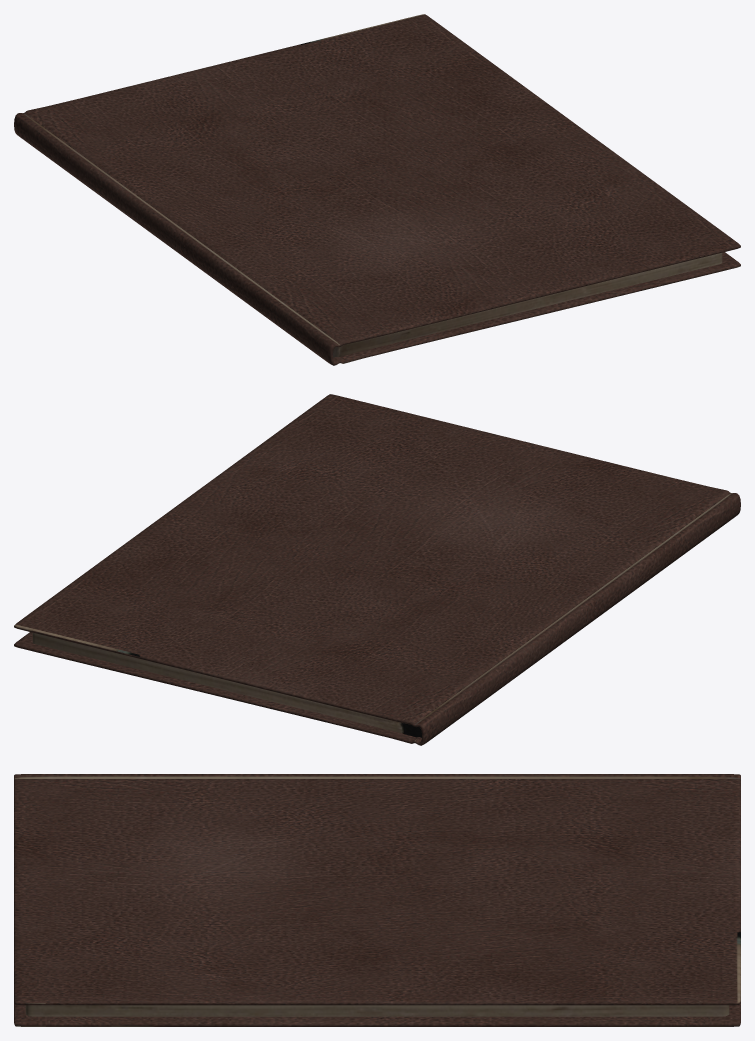
File: CSCD490ModelBook.fbx
3 views of the same model, one above another, from view 1: azimuth 30°, elevation 25°; view 2: azimuth 150°, elevation 25°; view 3: azimuth 270°, elevation 25° (orthographic). The views are drawn at different scales.
Visible parts, largest first — view 1: Cube.002; view 2: Cube.002; view 3: Cube.002.
Part boxes in pixels (box(x1,y1,x2,y2)): Cube.002: box(14, 14, 740, 365); Cube.002: box(14, 394, 740, 745); Cube.002: box(14, 774, 740, 1026).
Size of the model in its own units: 20 by 1.04 by 26.67.
